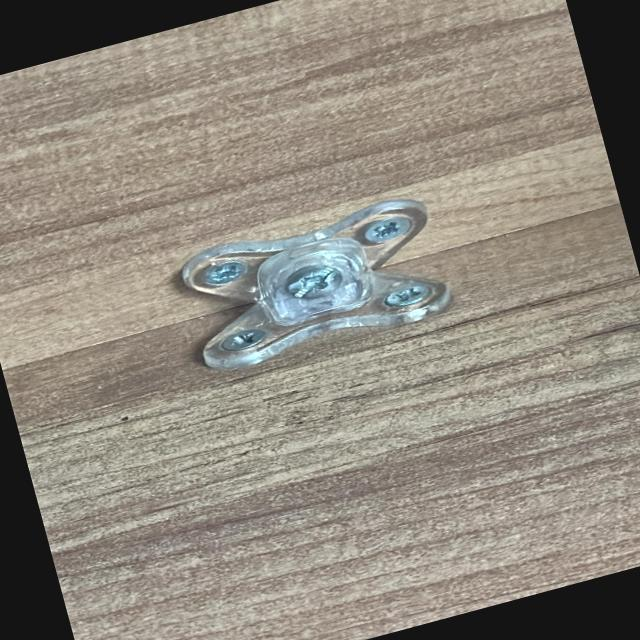Phillips: (281, 260, 349, 306)
Pozidriv: (358, 207, 422, 248), (198, 254, 250, 292), (214, 324, 272, 358), (380, 278, 433, 312)
